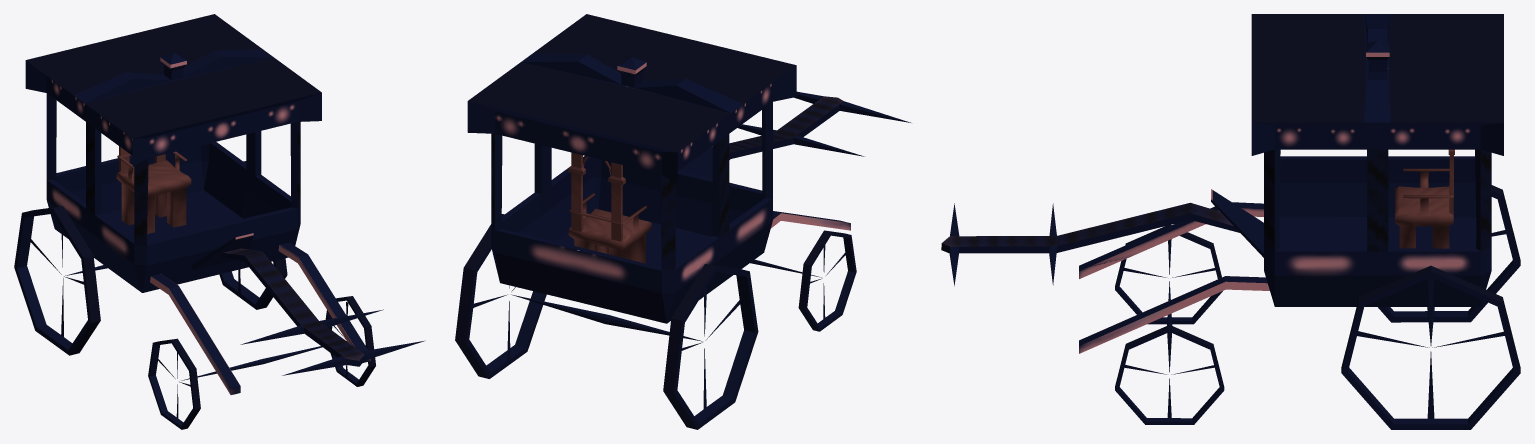
The model's file is CarroçaBuild.fbx.
3 views of the same model, side by side, from view 1: azimuth 30°, elevation 25°; view 2: azimuth 150°, elevation 25°; view 3: azimuth 270°, elevation 25° (orthographic). The views are drawn at different scales.
Visible parts, largest first — view 1: CarroçaModelo, CadeiraModelo; view 2: CarroçaModelo, CadeiraModelo; view 3: CarroçaModelo, CadeiraModelo.
Boxes of the visible parts, x1=… form: CarroçaModelo: x1=14, y1=14, x2=425, y2=429; CadeiraModelo: x1=116, y1=146, x2=191, y2=234; CarroçaModelo: x1=455, y1=14, x2=910, y2=429; CadeiraModelo: x1=568, y1=152, x2=651, y2=263; CarroçaModelo: x1=941, y1=14, x2=1520, y2=429; CadeiraModelo: x1=1395, y1=149, x2=1454, y2=248.
Bounding box in the file's own units: 53.93 × 73.78 × 116.
